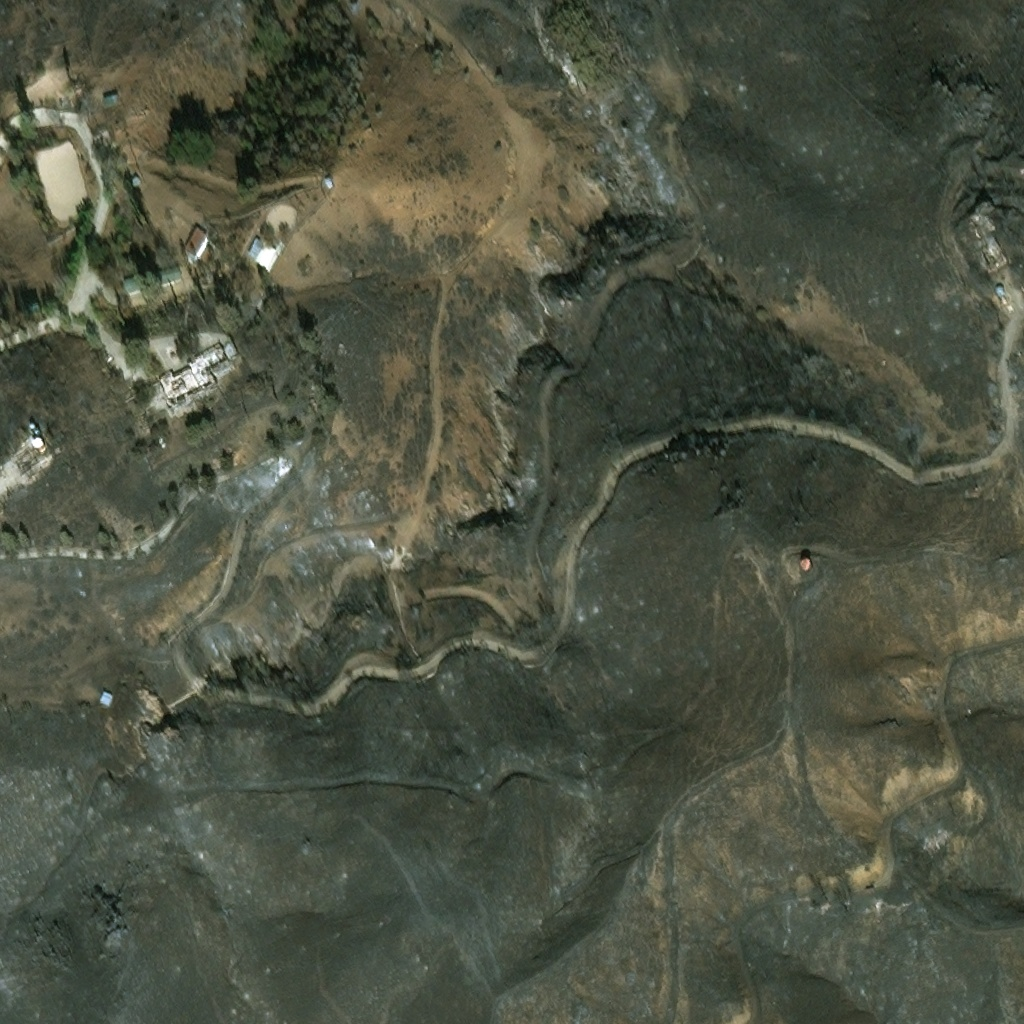0 no-damage: (119, 255, 175, 283), (244, 231, 276, 265), (180, 224, 206, 252), (19, 290, 35, 305), (103, 95, 120, 105), (324, 178, 336, 192), (127, 171, 139, 183)
1 minor-damage: (33, 440, 44, 451)
3 destroyed: (149, 332, 238, 406), (973, 236, 1007, 269), (913, 824, 949, 851), (10, 449, 38, 474), (99, 692, 114, 708), (97, 124, 110, 142), (64, 87, 82, 99), (801, 565, 815, 578), (981, 215, 993, 229), (794, 891, 808, 902), (987, 487, 997, 497), (224, 256, 234, 265), (994, 284, 1003, 293), (1003, 299, 1011, 308)
